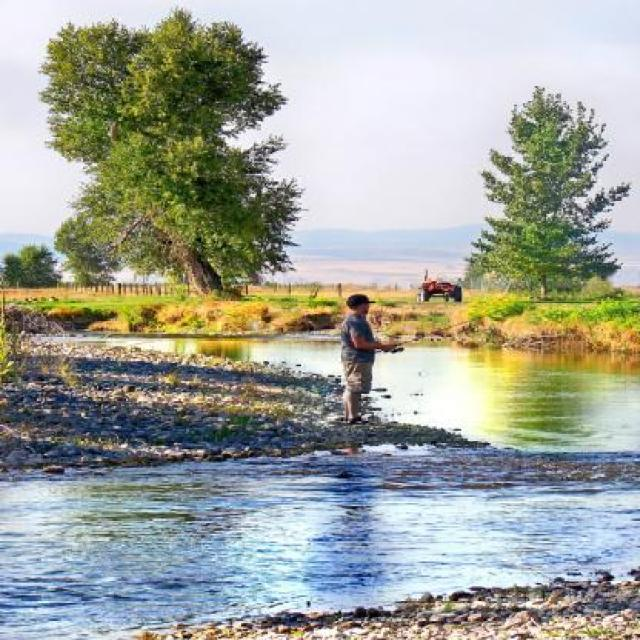Person: (338, 293, 396, 429)
